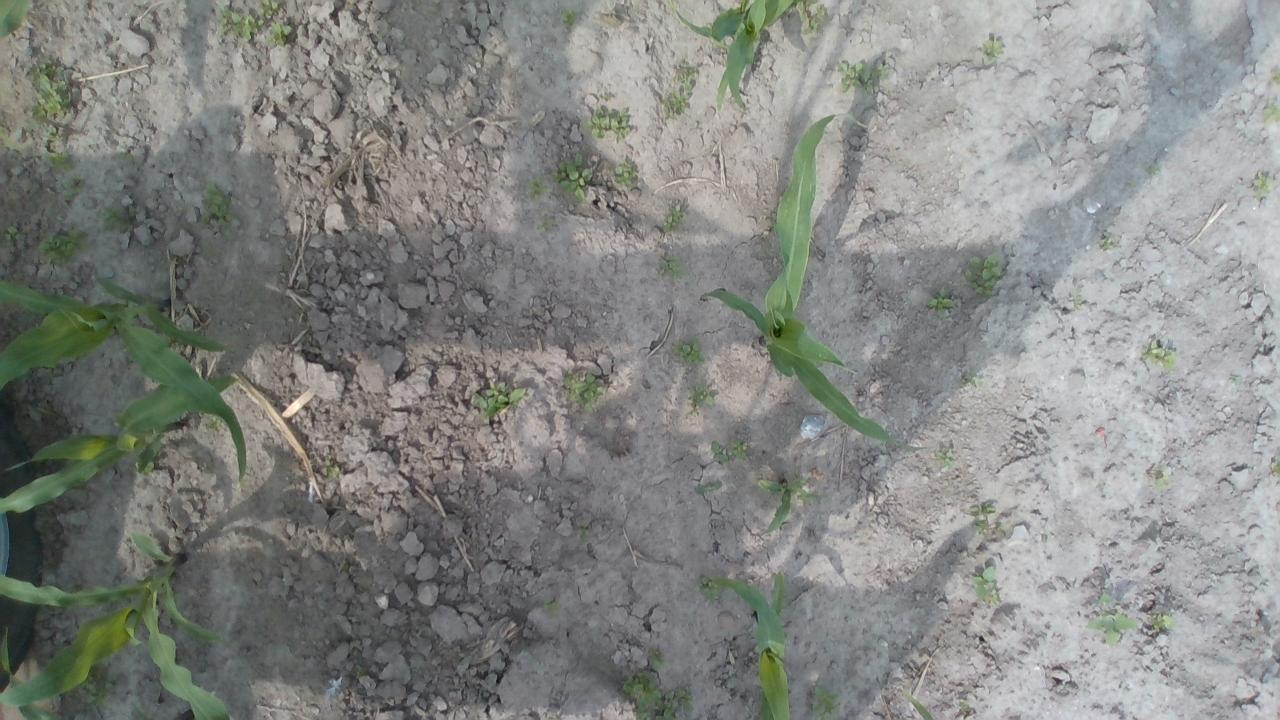Maize: (703, 110, 928, 451), (0, 274, 251, 482), (0, 533, 234, 720), (0, 375, 238, 516), (0, 626, 197, 720), (668, 0, 802, 112), (714, 570, 792, 720), (757, 477, 818, 534), (0, 0, 36, 39), (904, 693, 934, 720)
Weeds: (24, 60, 74, 131), (621, 669, 689, 720), (38, 226, 92, 266), (470, 382, 528, 418), (550, 152, 592, 201), (581, 104, 631, 143), (837, 60, 891, 96), (1085, 610, 1136, 648), (564, 369, 605, 414), (965, 254, 1005, 297), (74, 669, 114, 712), (38, 126, 75, 172), (200, 180, 236, 226), (969, 565, 1003, 610), (216, 7, 257, 44), (806, 682, 840, 720), (99, 202, 141, 232), (1142, 339, 1178, 370), (711, 439, 752, 464), (798, 0, 828, 34), (967, 502, 997, 534), (673, 335, 705, 364), (654, 253, 686, 282), (692, 574, 722, 604), (660, 89, 691, 116), (926, 288, 954, 316), (688, 383, 714, 411), (670, 60, 694, 89), (1252, 170, 1276, 199), (266, 22, 292, 48), (661, 202, 684, 229), (612, 160, 636, 185), (256, 0, 280, 25), (526, 172, 548, 198), (982, 38, 1004, 64), (1150, 611, 1174, 632), (320, 456, 341, 480), (1155, 462, 1171, 490), (205, 414, 227, 434), (62, 182, 84, 202), (694, 480, 720, 496), (960, 372, 986, 388), (1263, 100, 1280, 124), (936, 446, 956, 466), (560, 10, 578, 30), (2, 223, 20, 242), (650, 652, 666, 672), (576, 521, 592, 540), (0, 127, 13, 150), (543, 597, 561, 613), (1071, 288, 1084, 309), (1096, 592, 1113, 606), (118, 149, 132, 161), (1271, 70, 1280, 86), (1272, 459, 1280, 477), (1100, 238, 1114, 248), (959, 700, 970, 710), (1148, 164, 1158, 175), (536, 224, 546, 232)
